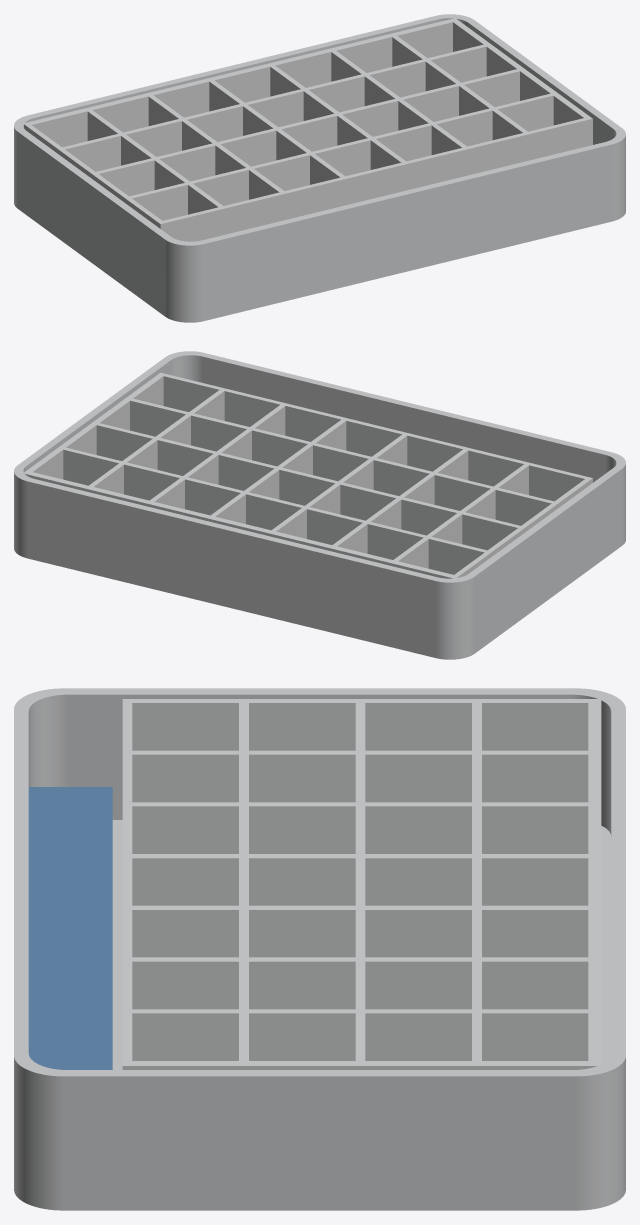
The model's file is step_03.glb.
3 renders of one model, top to bottom at view 1: azimuth 30°, elevation 25°; view 2: azimuth 150°, elevation 25°; view 3: azimuth 270°, elevation 25°, orthographic. The views are drawn at different scales.
Parts seen in each view (by area): view 1: part__28 compartments, part__case; view 2: part__case, part__28 compartments; view 3: part__28 compartments, part__case, part__pill tray.
Part boxes in pixels (<box>): part__28 compartments: <box>24,18,592,241</box>; part__case: <box>14,14,625,322</box>; part__case: <box>14,351,625,659</box>; part__28 compartments: <box>24,372,592,578</box>; part__28 compartments: <box>122,699,601,1069</box>; part__case: <box>14,688,625,1210</box>; part__pill tray: <box>28,787,112,1069</box>.
Bounding box in the file's own units: 186 × 30 × 124.
